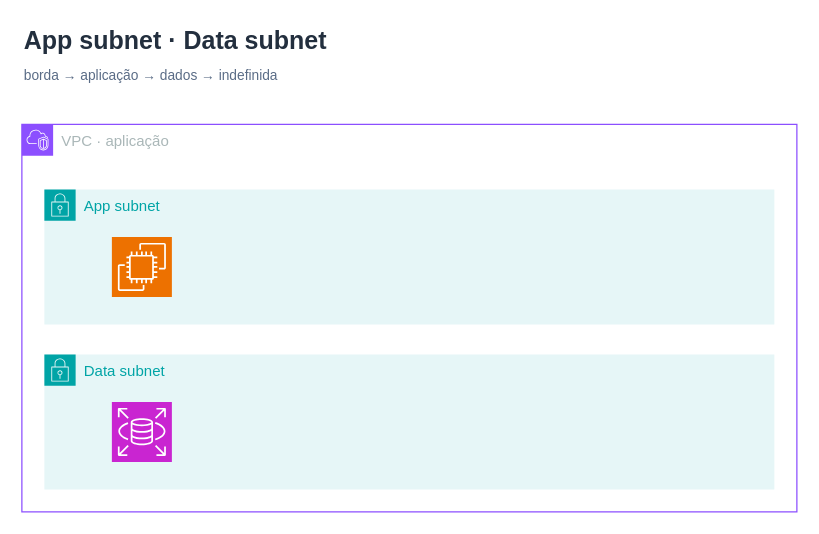
Some shapes in this 819 by 534 pixel diagram are drawn without their labels. The centre of each missing label's shape, as x and y in pixels:
Amazon EC2: pixel 141 266
Amazon RDS: pixel 141 431
